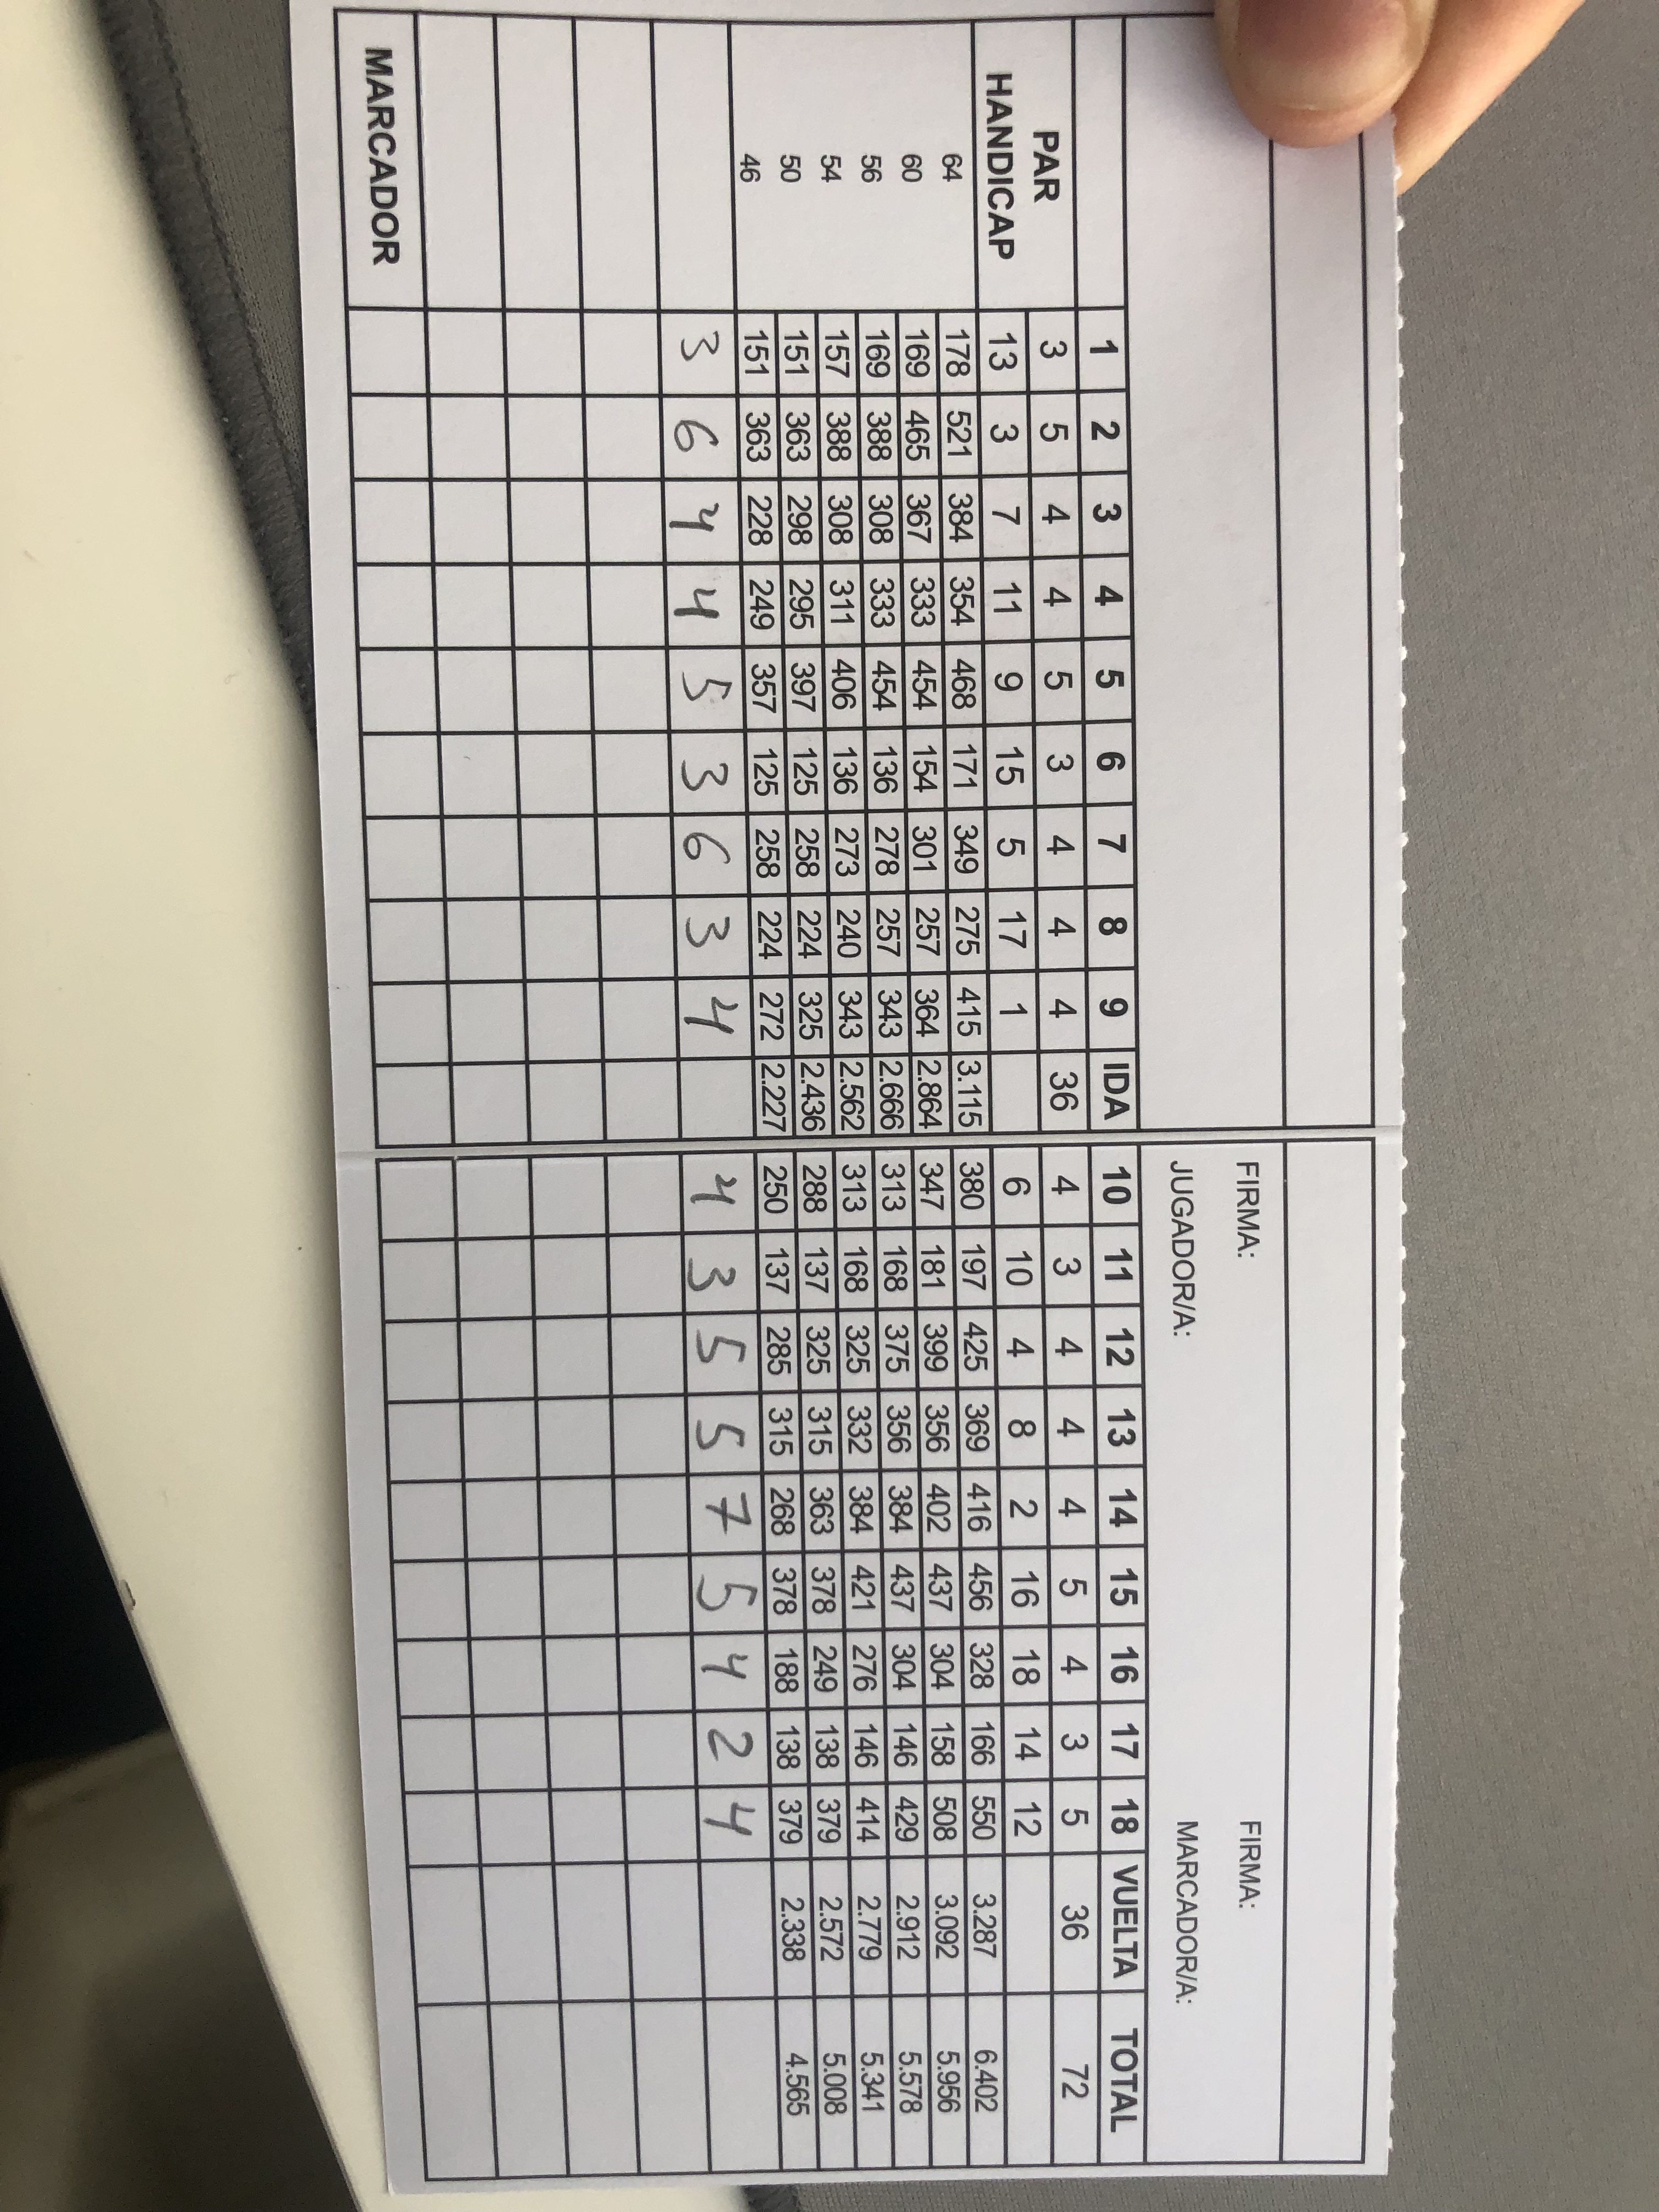par: (1033, 124, 1101, 2109)
score: (660, 307, 763, 1855)
